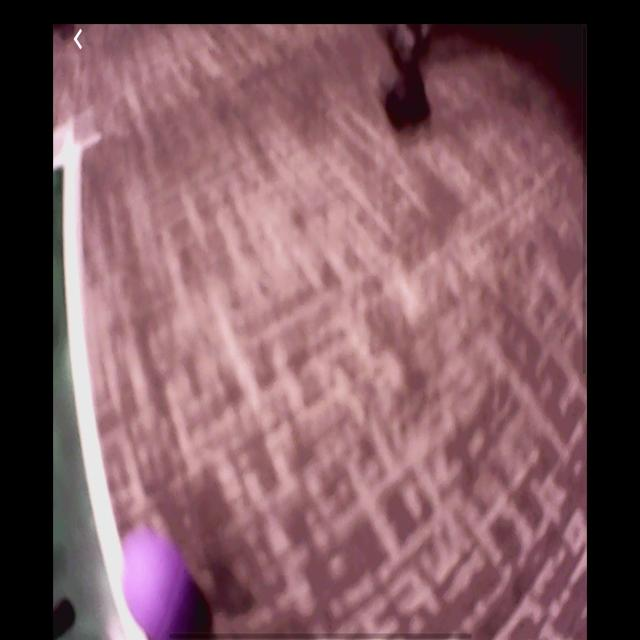ball: (120, 523, 215, 639)
